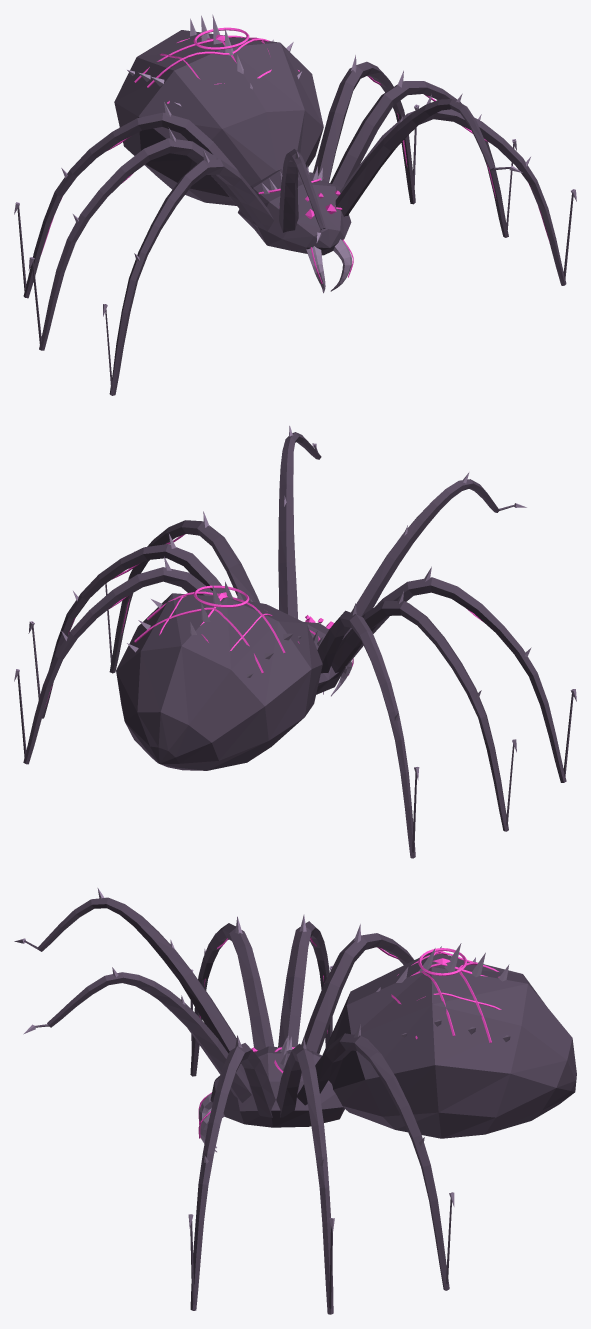
File: Aracna.obj
3 views of the same model, one above another, from view 1: azimuth 30°, elevation 25°; view 2: azimuth 150°, elevation 25°; view 3: azimuth 270°, elevation 25° (orthographic). The views are drawn at different scales.
Parts seen in each view (by area): view 1: Aracna_Cuerpo, Aracna_Hueso, Aracna_Brillo; view 2: Aracna_Cuerpo, Aracna_Hueso, Aracna_Brillo; view 3: Aracna_Cuerpo, Aracna_Hueso, Aracna_Brillo.
Part boxes in pixels (x1,y1,x2,y2): Aracna_Cuerpo: (17, 30, 573, 395); Aracna_Hueso: (14, 14, 576, 316); Aracna_Brillo: (41, 27, 549, 283); Aracna_Cuerpo: (17, 432, 573, 858); Aracna_Hueso: (14, 425, 576, 780); Aracna_Brillo: (45, 534, 483, 705); Aracna_Cuerpo: (24, 897, 576, 1314); Aracna_Hueso: (14, 888, 510, 1232); Aracna_Brillo: (198, 937, 501, 1138).
Size of the model in its own units: 5.26 by 2.62 by 4.91.
